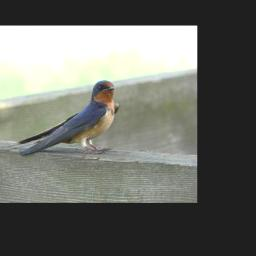Swallow: (0, 78, 121, 158)
